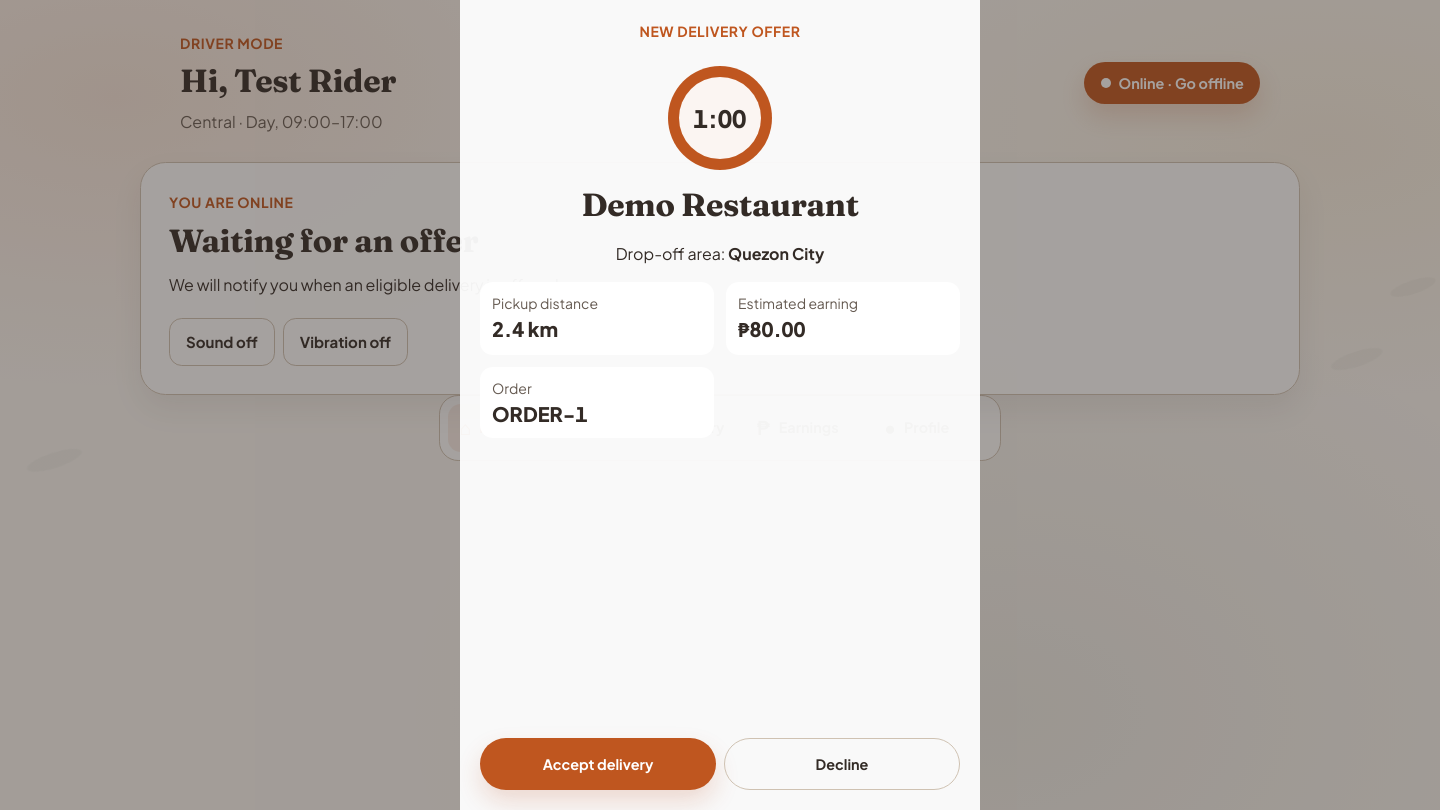
Test: RiderPage dispatch experience › reveals customer details only after the rider accepts
The width and height of the screenshot is (1440, 810).
Click the button "Accept delivery" at (598, 764), box [480,738,716,790]
(page scrolled)
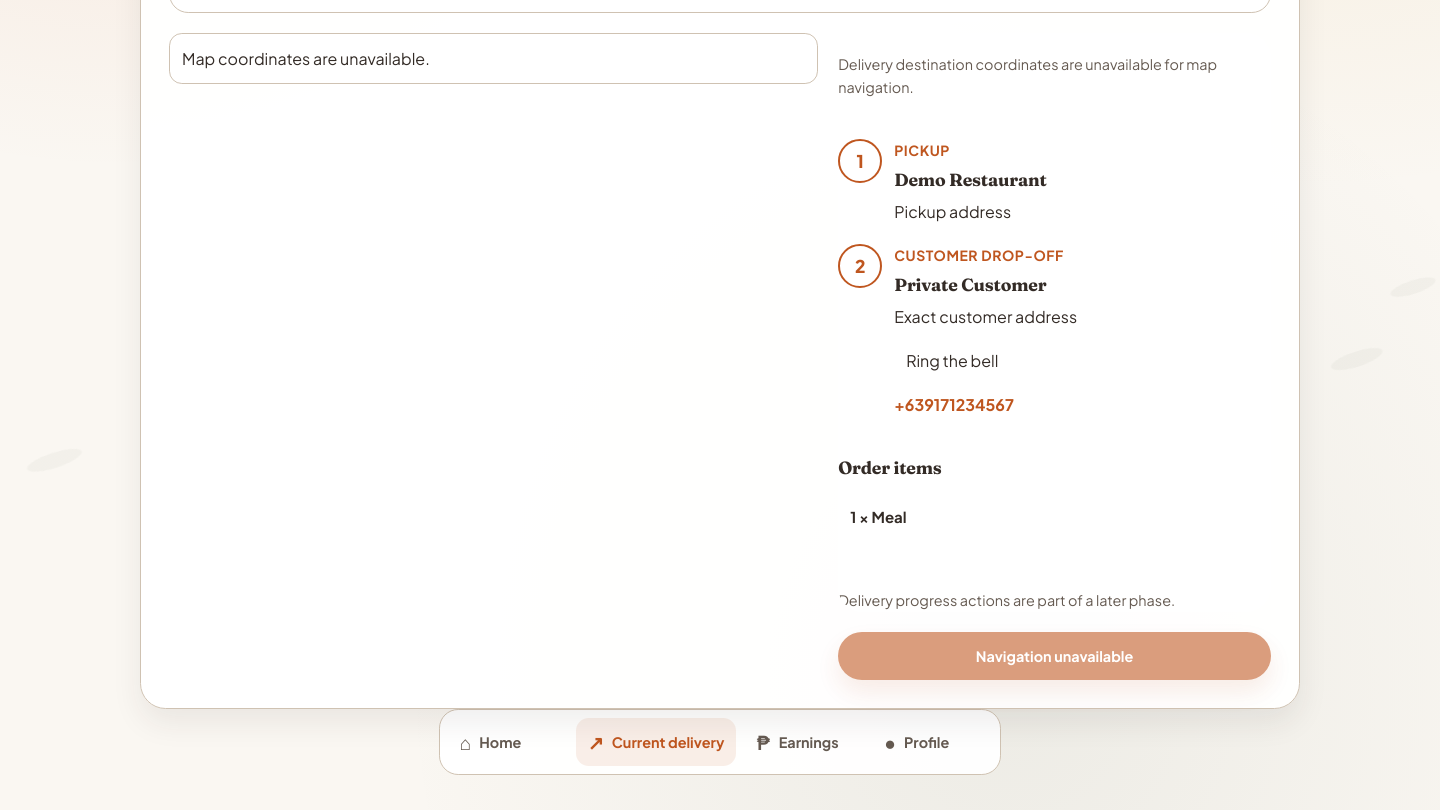
Now the heading "Private Customer" is shown, box [894,274,1046,296]
Now the text "Exact customer address" is shown, box [894,306,1077,327]
Now the link "+639171234567" is shown, box [894,394,1014,415]
